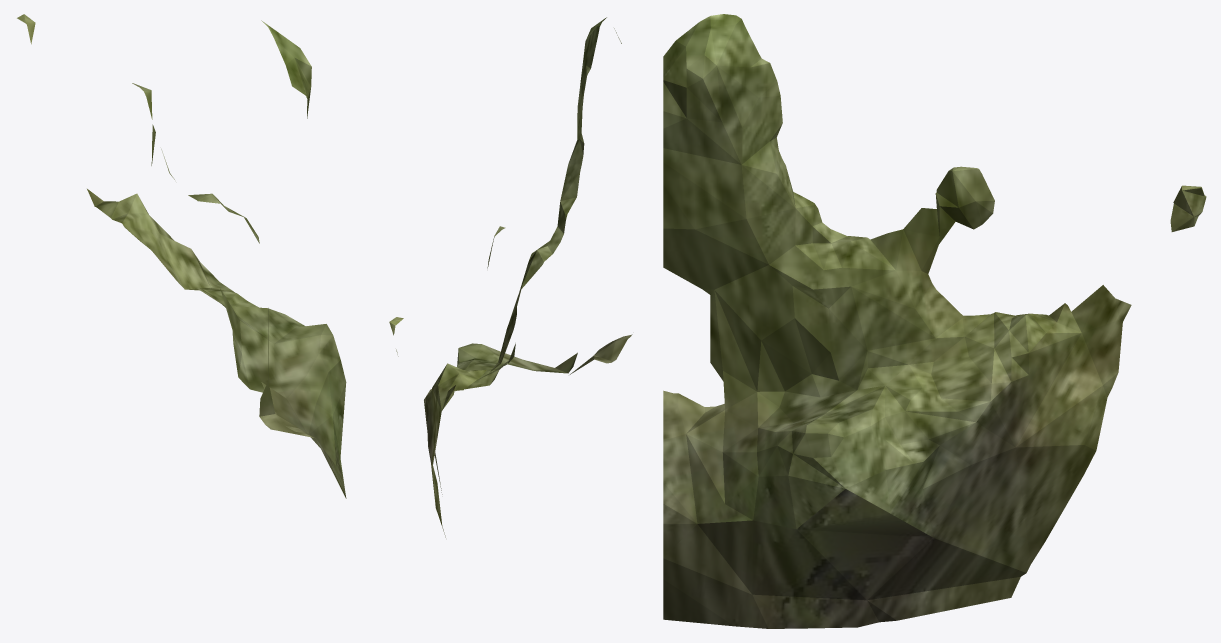
The picture shows the model from 3 angles, left to right: view 1: azimuth 30°, elevation 25°; view 2: azimuth 150°, elevation 25°; view 3: azimuth 270°, elevation 25°; orthographic projection. The views are drawn at different scales.
Bounding box in the file's own units: 0.6137 × 2.76 × 2.33.
Materials: 2 (2 with a texture image).
